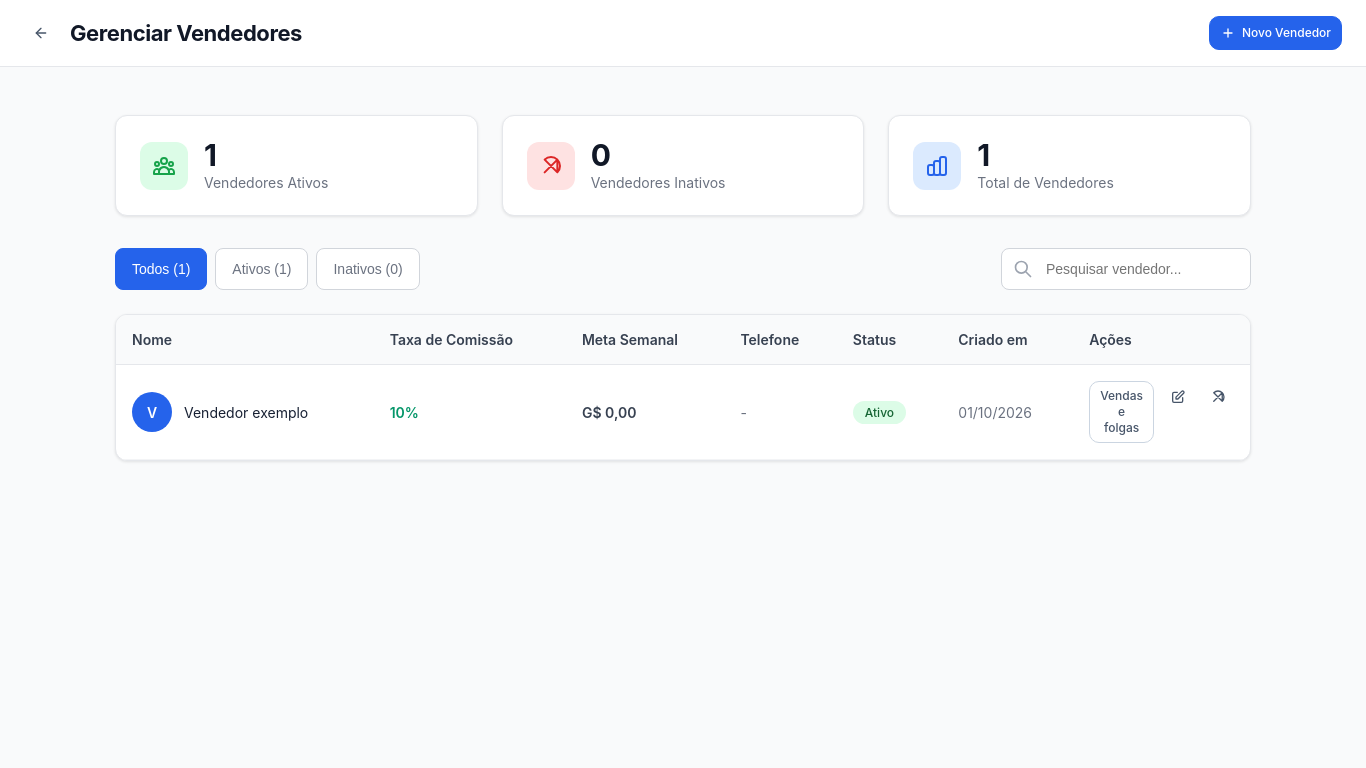
Test case: Vendor management feedback › offers to clear an unmatched search instead of suggesting a first seller
In the field with placeholder "Pesquisar vendedor...": coordinates (1126, 269) [1001, 248, 1251, 290], type "sem correspondência"
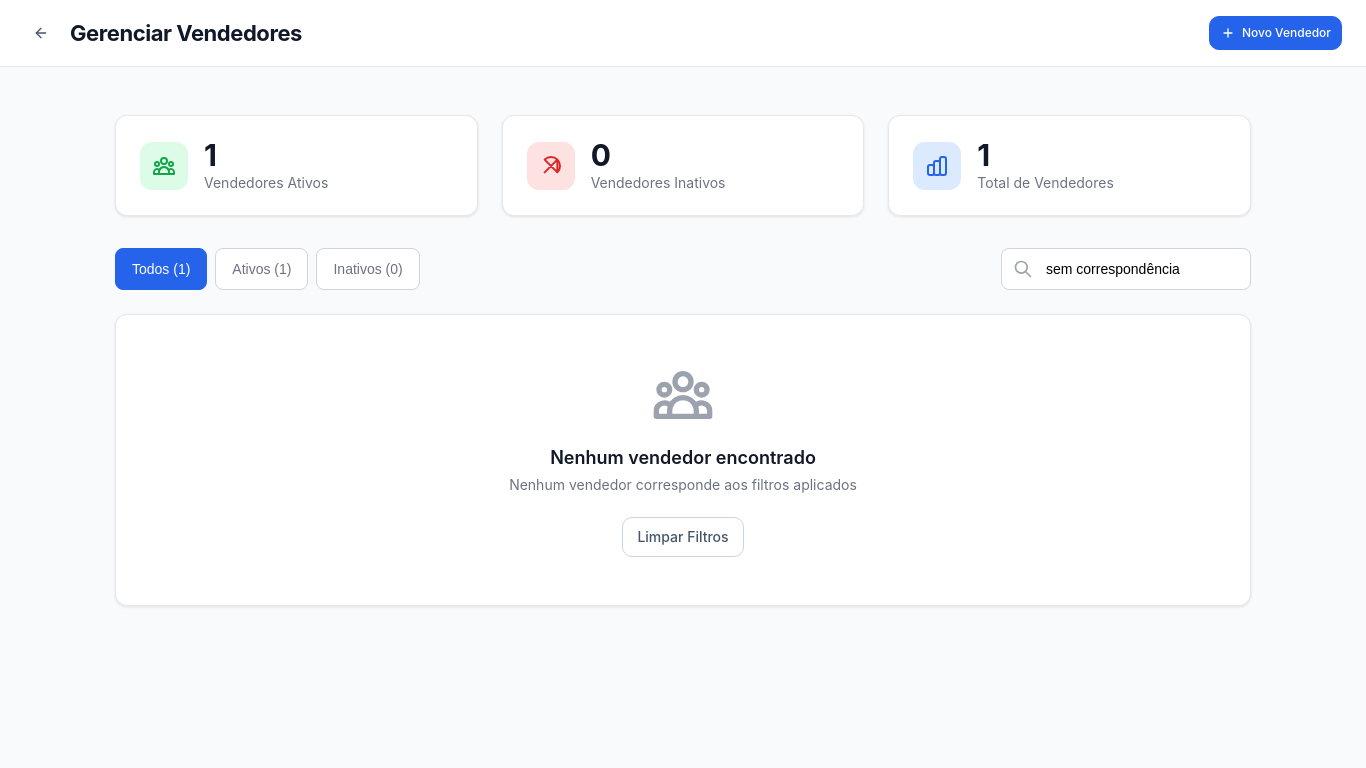
Expected: the element with class "empty-state" shows "Nenhum vendedor corresponde aos filtros aplicados", [509, 476, 857, 493]
Click the button "Limpar Filtros": coordinates (683, 537) [622, 517, 744, 557]
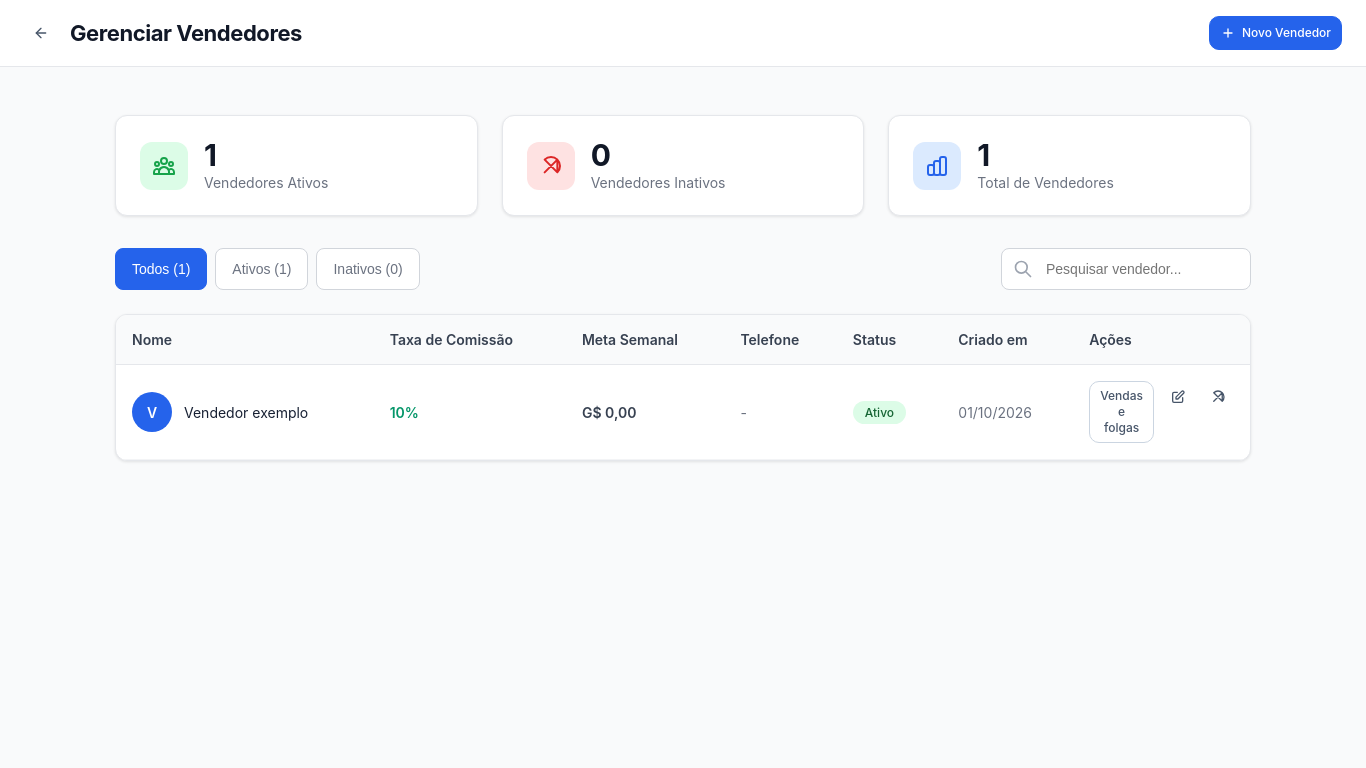
Expected: the field with placeholder "Pesquisar vendedor..." is empty, [1001, 248, 1251, 290]
